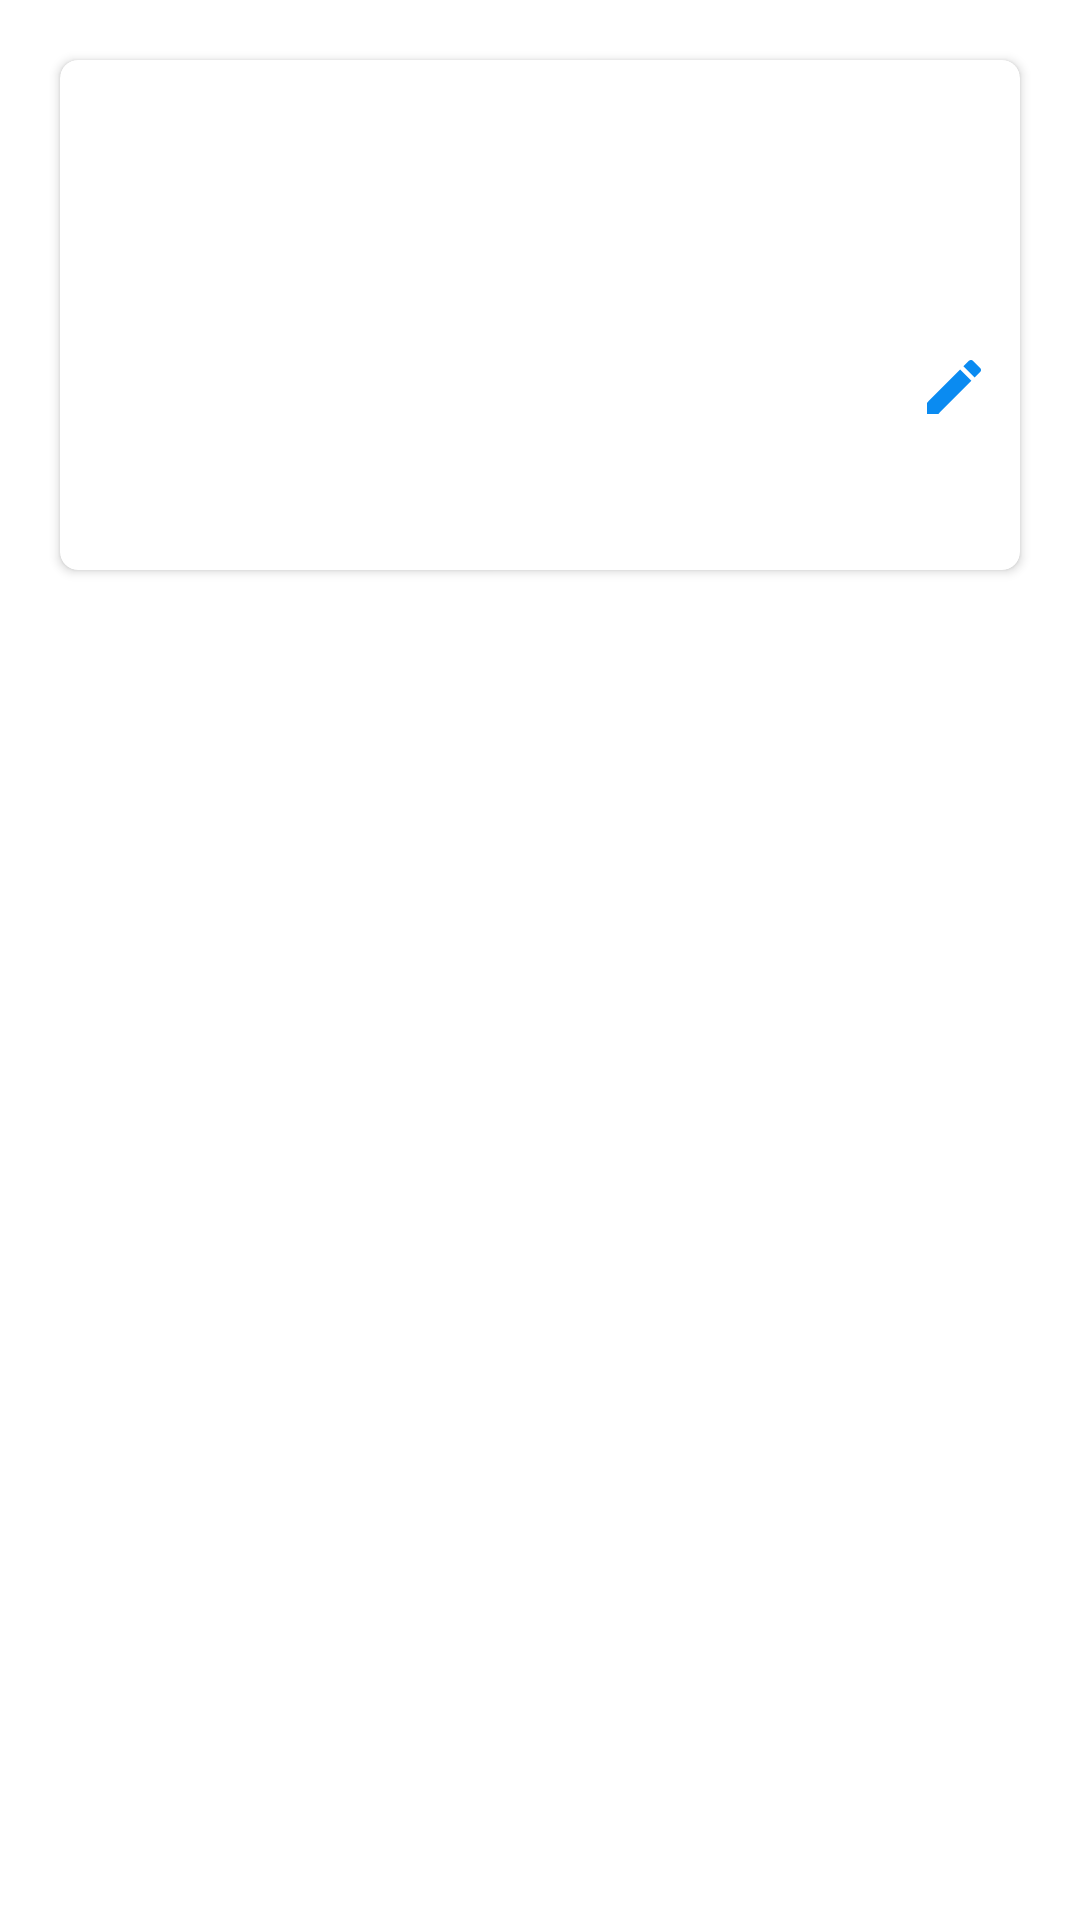

Icon bounding boxes for this 1080x1920 phone screenshot, format bbox=(x1, y1, x2, y2):
edit: bbox=(927, 360, 981, 414)
